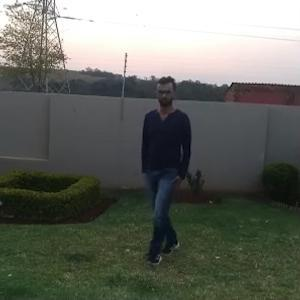follow: (140, 76, 201, 262)
